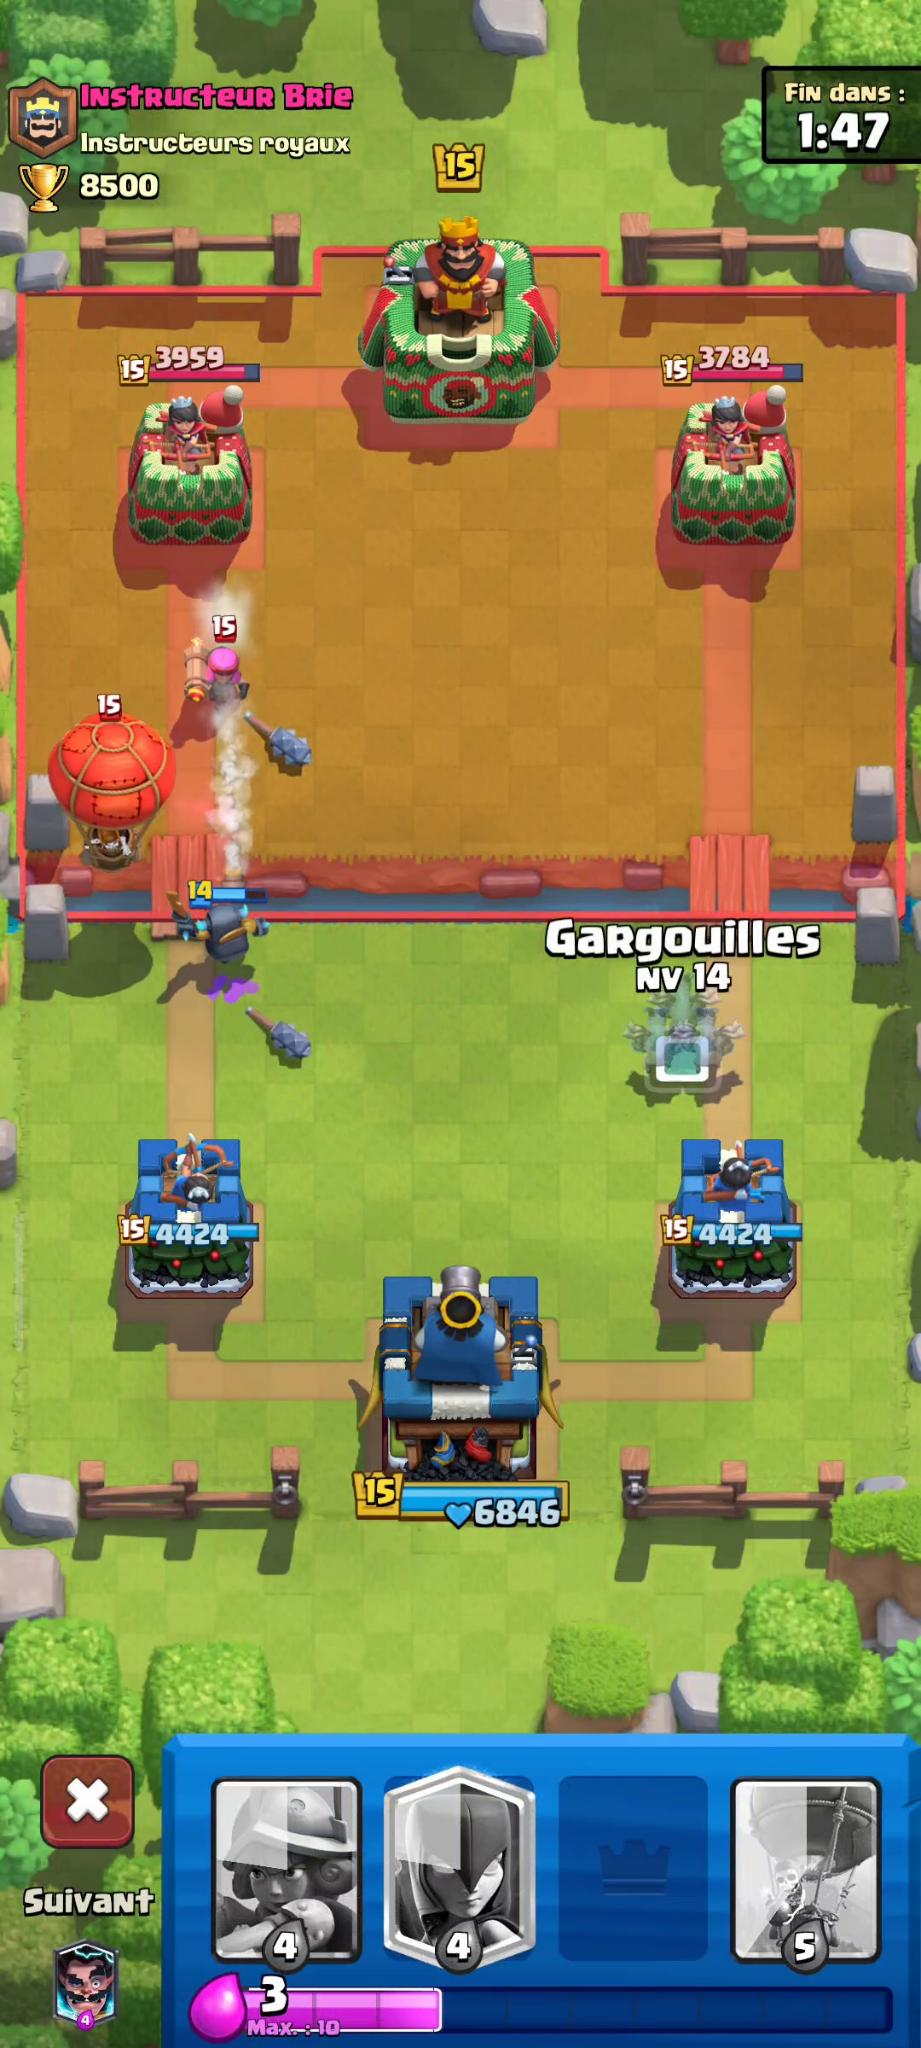gargouille: (623, 1006, 681, 1079), (687, 1014, 742, 1083), (649, 970, 719, 1025)
mini_PEKKA: (169, 879, 263, 976)
